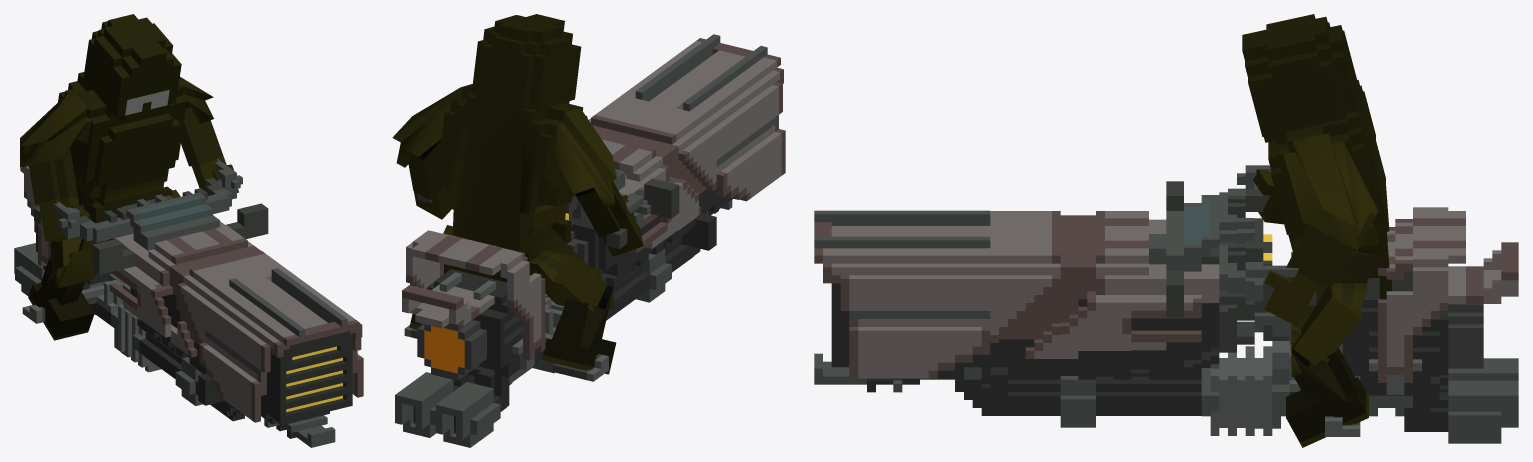
The model's file is OnTracer.obj.
3 renders of one model, left to right at view 1: azimuth 30°, elevation 25°; view 2: azimuth 150°, elevation 25°; view 3: azimuth 270°, elevation 25°, orthographic. The views are drawn at different scales.
Size of the model in its own units: 4.6 by 7.16 by 11.41.
Materials: 2 (2 with a texture image).
